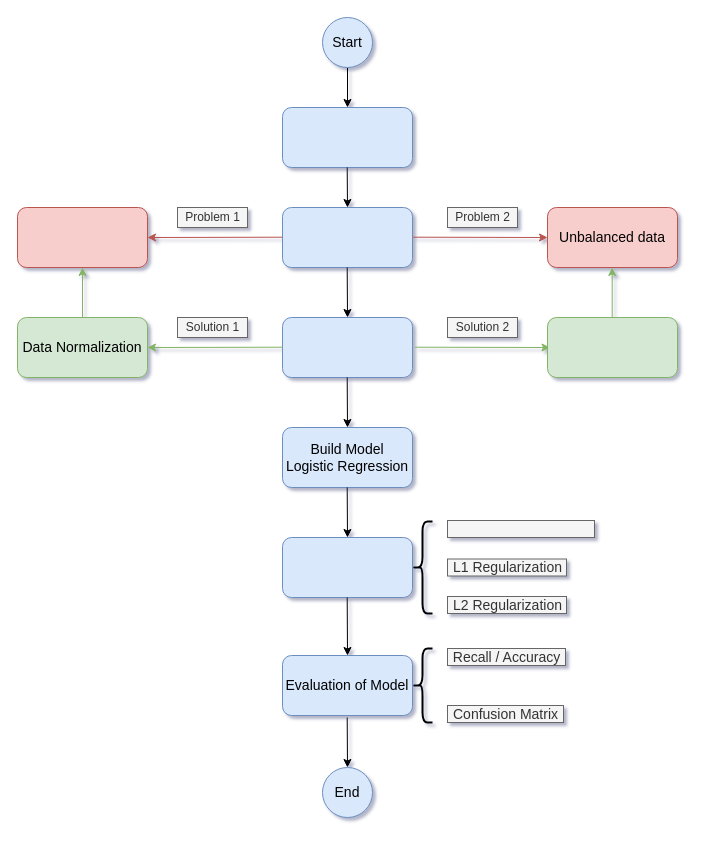
Image size: 701x841. Some labels were removed from this diagram. Here are the shapes that lost their labels. From the top down, the centre of each, then its label:
At pixel 347 137: "Analyze Data Distribution".
At pixel 82 237: "Different data magnitude".
At pixel 347 237: "Find Problem".
At pixel 347 347: "Figure out Solution".
At pixel 612 347: "Under-sampling Over-sample".
At pixel 520 529: "K-fold cross validation".
At pixel 347 567: "Adjust Parameters".
